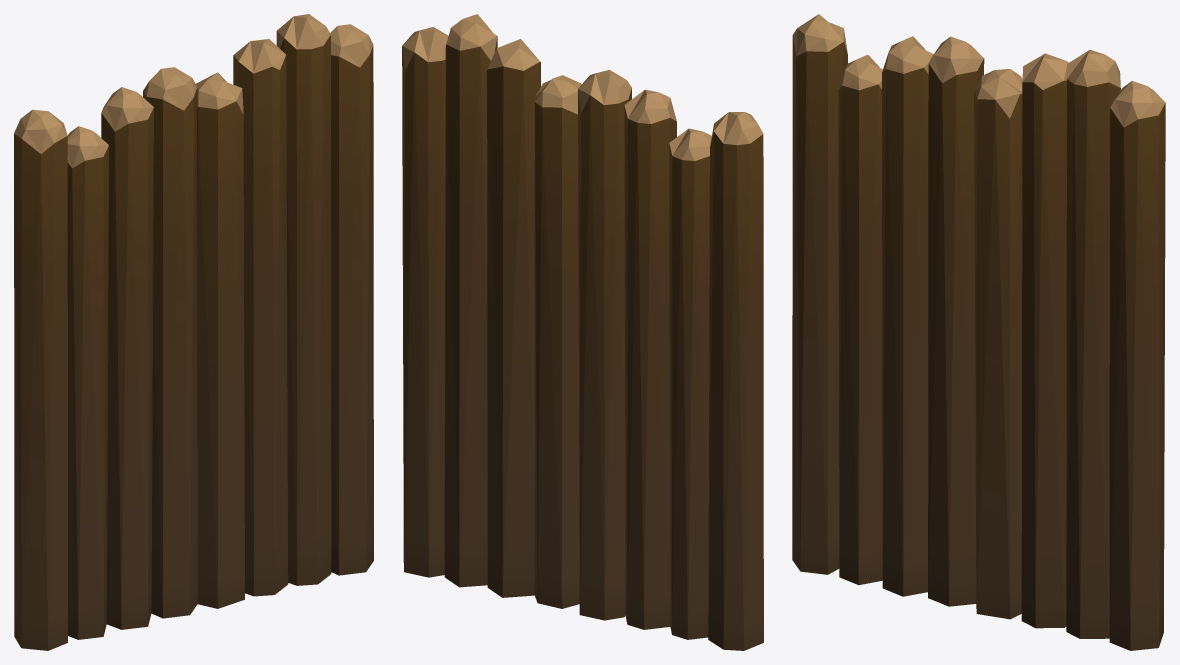
File: FenceBig_02.fbx
3 renders of one model, left to right at view 1: azimuth 30°, elevation 25°; view 2: azimuth 150°, elevation 25°; view 3: azimuth 330°, elevation 25°, orthographic. The views are drawn at different scales.
Visible parts, largest first — view 1: FenceBig_02; view 2: FenceBig_02; view 3: FenceBig_02.
Boxes of the visible parts, left/top/right/bottom form: FenceBig_02: left=14, top=14, right=373, bottom=650; FenceBig_02: left=402, top=14, right=763, bottom=650; FenceBig_02: left=792, top=14, right=1165, bottom=650.
Bounding box in the file's own units: 2.26 × 3.41 × 0.321.
